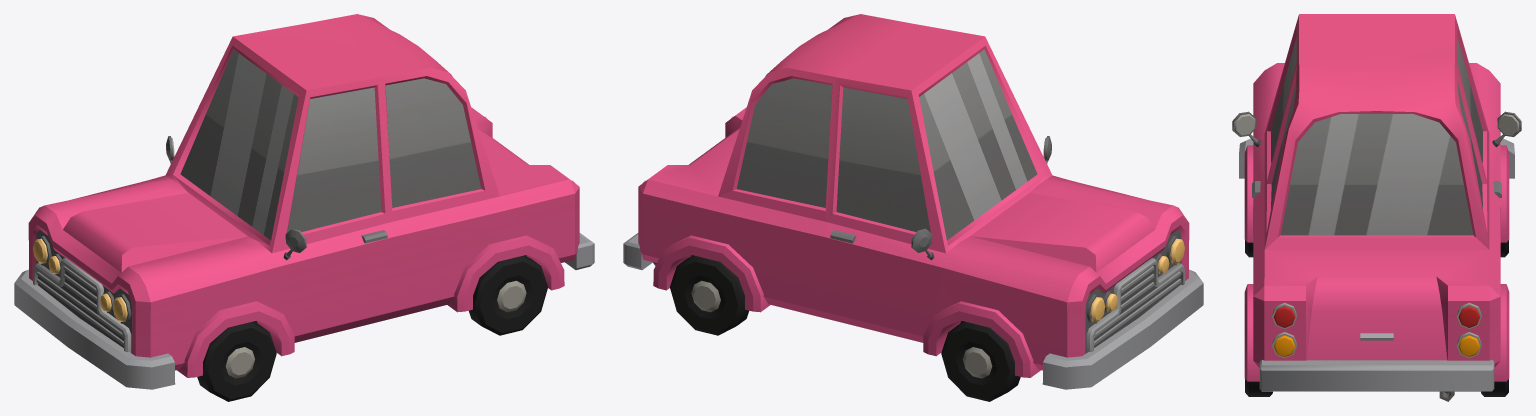
The model's file is Car_8_M.gltf.
3 renders of one model, left to right at view 1: azimuth 30°, elevation 25°; view 2: azimuth 150°, elevation 25°; view 3: azimuth 270°, elevation 25°, orthographic. The views are drawn at different scales.
Visible parts, largest first — view 1: Car_8_M, RL, FL; view 2: Car_8_M, RR, FR; view 3: Car_8_M, RL, RR.
Part boxes in pixels (bbox=[...]): Car_8_M: bbox=[14, 14, 594, 389]; RL: bbox=[469, 255, 547, 335]; FL: bbox=[197, 321, 276, 401]; Car_8_M: bbox=[623, 14, 1203, 389]; RR: bbox=[670, 255, 748, 335]; FR: bbox=[941, 321, 1020, 401]; Car_8_M: bbox=[1232, 14, 1521, 401]; RL: bbox=[1245, 379, 1272, 396]; RR: bbox=[1481, 379, 1508, 396].
Bounding box in the file's own units: 3.38 × 1.84 × 1.7.
Materials: 3 (3 with a texture image).
